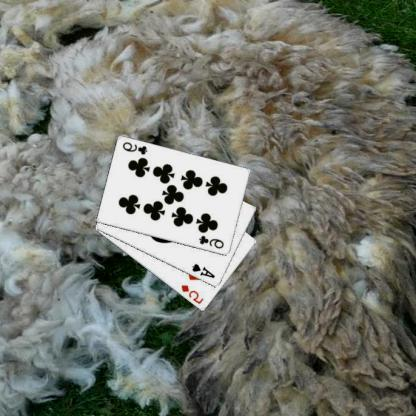5D: (180, 283, 207, 306)
9C: (198, 233, 227, 250), (122, 140, 150, 156)
AS: (191, 262, 218, 280)
